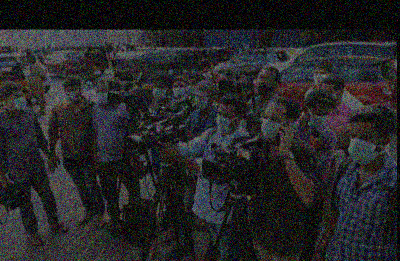with_mask: (349, 130, 381, 166), (263, 113, 287, 141), (217, 110, 240, 133), (308, 111, 329, 129), (8, 92, 27, 110), (153, 84, 169, 101), (64, 87, 80, 103), (195, 95, 210, 111), (314, 70, 329, 86), (97, 88, 111, 105), (187, 81, 199, 97), (173, 83, 185, 97), (200, 69, 213, 79)
without_mask: (258, 75, 276, 94), (337, 130, 351, 150)
